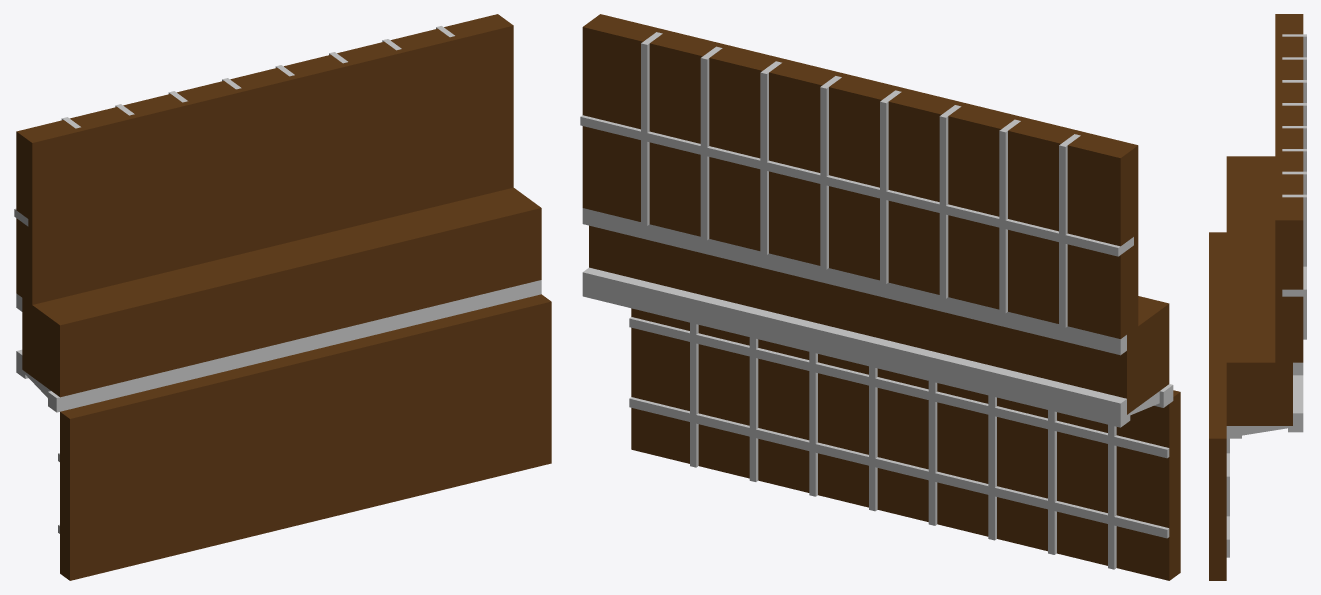
File: tinker 1.obj
3 renders of one model, left to right at view 1: azimuth 30°, elevation 25°; view 2: azimuth 150°, elevation 25°; view 3: azimuth 270°, elevation 25°, orthographic. The views are drawn at different scales.
Visible parts, largest first — view 1: group_0_6306067, group_0_4531977, group_0_2829873; view 2: group_0_6306067, group_0_2829873, group_0_4531977; view 3: group_0_6306067, group_0_2829873, group_0_4531977.
Boxes of the visible parts, x1,y1,x2,y2 form: group_0_6306067: (16, 14, 551, 580); group_0_4531977: (16, 280, 541, 412); group_0_2829873: (14, 26, 454, 533); group_0_6306067: (582, 14, 1180, 580); group_0_2829873: (580, 32, 1169, 569); group_0_4531977: (582, 208, 1173, 427); group_0_6306067: (1209, 14, 1303, 580); group_0_2829873: (1226, 34, 1306, 557); group_0_4531977: (1226, 362, 1303, 438).
Bounding box in the file's own units: 141 × 114 × 28.
